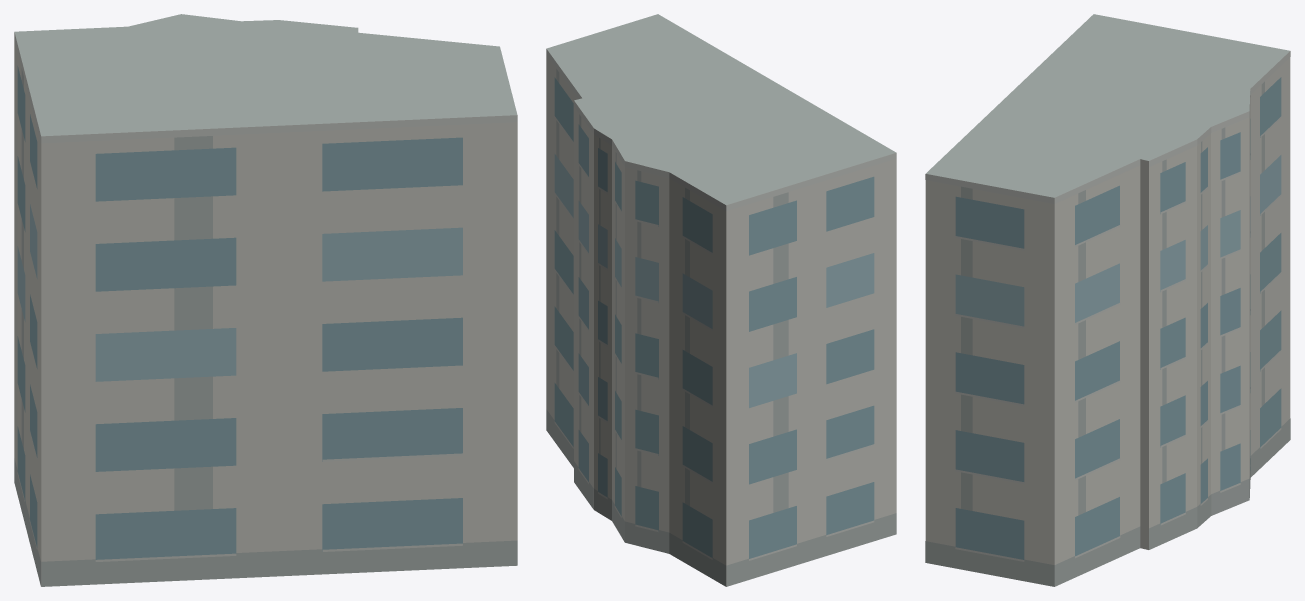
The model's file is survey-upis-32637464.glb.
The picture shows the model from 3 angles, left to right: view 1: azimuth 30°, elevation 25°; view 2: azimuth 150°, elevation 25°; view 3: azimuth 270°, elevation 25°; orthographic projection. The views are drawn at different scales.
Parts seen in each view (by area): view 1: survey-upis-32637464.tmp; view 2: survey-upis-32637464.tmp; view 3: survey-upis-32637464.tmp.
Boxes of the visible parts, bbox=[...] form: survey-upis-32637464.tmp: bbox=[14, 14, 517, 586]; survey-upis-32637464.tmp: bbox=[546, 14, 896, 586]; survey-upis-32637464.tmp: bbox=[925, 14, 1290, 586].
Bounding box in the file's own units: 15.46 × 15.25 × 12.97.
